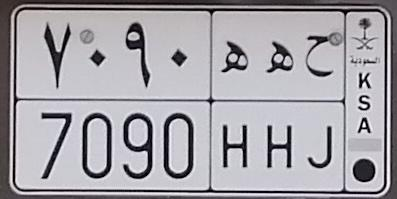0: (80, 48, 114, 179), (163, 48, 196, 179)
7: (39, 22, 74, 180)
9: (122, 21, 155, 180)
H: (265, 39, 295, 170), (220, 41, 249, 170)
J: (304, 34, 335, 170)
